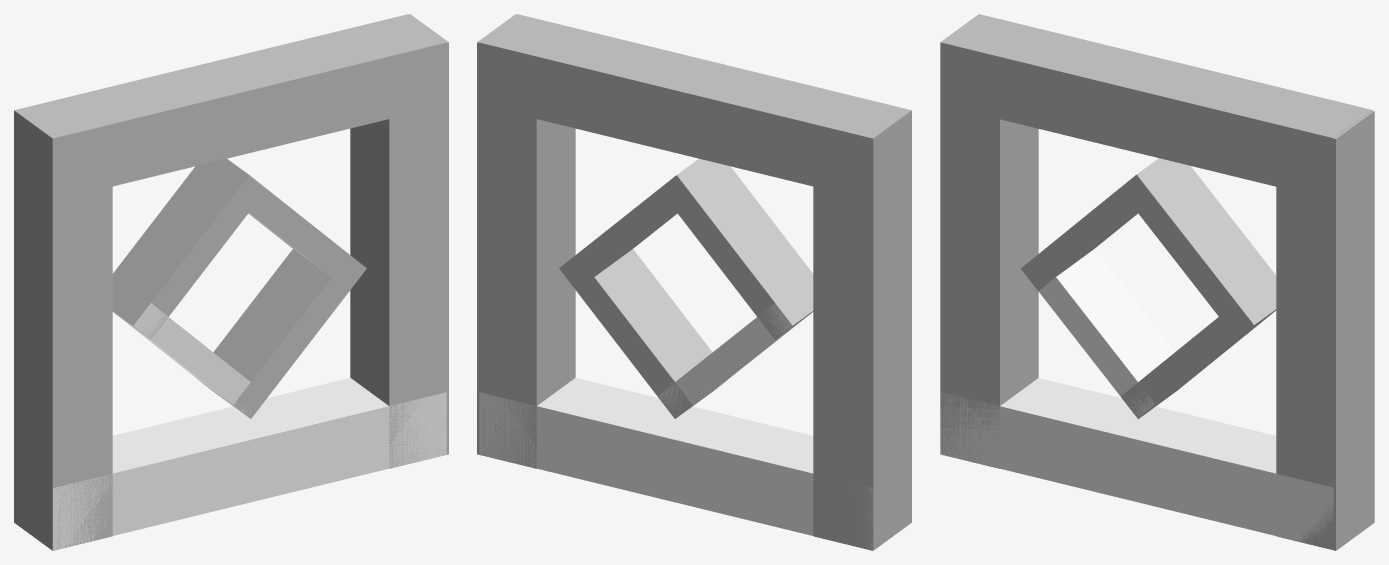
The model's file is goal.obj.
3 views of the same model, side by side, from view 1: azimuth 30°, elevation 25°; view 2: azimuth 150°, elevation 25°; view 3: azimuth 330°, elevation 25° (orthographic).
Visible parts, largest first — view 1: Cube.004; view 2: Cube.004; view 3: Cube.004.
Part boxes in pixels (x1=…): Cube.004: x1=14, y1=14, x2=448, y2=550; Cube.004: x1=477, y1=14, x2=911, y2=550; Cube.004: x1=940, y1=14, x2=1374, y2=550.
Size of the model in its own units: 2.01 by 2 by 0.3408.
Materials: 4 (2 with a texture image).
